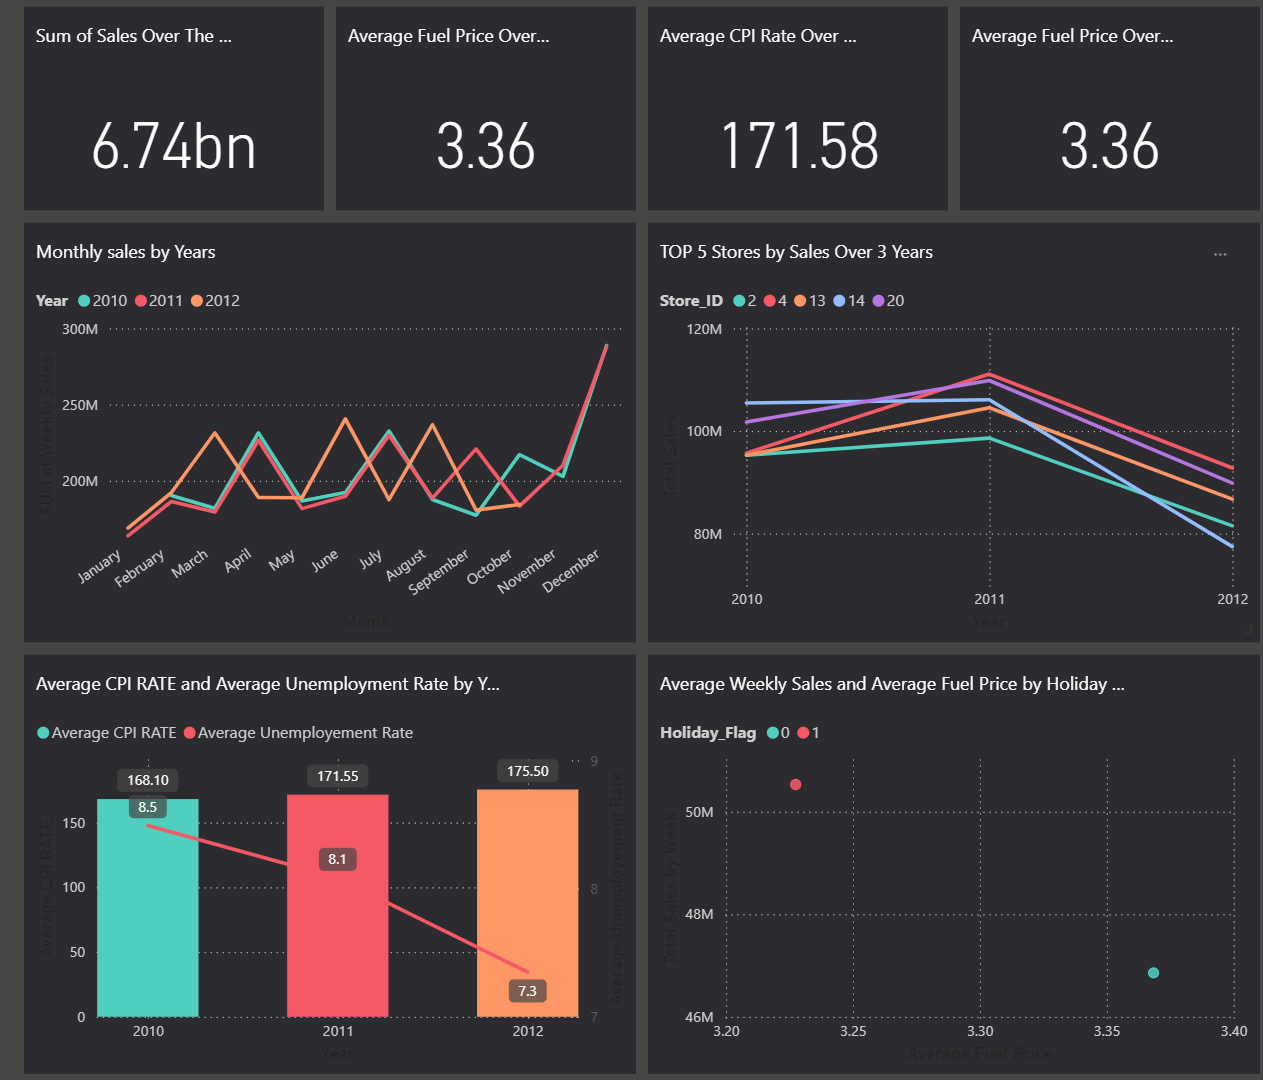

What the dashboard file says about the page in this screenshot:
{"tool":"powerbi","page":{"name":"Page 1","canvas":[1280,720],"ordinal":0},"visuals":[{"type":"card","fields":{"Values":["Walmart_Sales.SUM of Weekly Sales"]},"box":[0,0,270.4,105.2],"z":0},{"type":"clusteredColumnChart","title":"TOP 5 Stores by Sales Over 3 Years","fields":{"Category":["Date.Year"],"Y":["Walmart_Sales.SUM of Weekly Sales"],"Series":["Walmart_Sales.Store_ID"]},"box":[540.8,105.2,740,307.7],"z":1000},{"type":"actionButton","box":[0,0,100,40],"z":2000},{"type":"lineChart","title":"Monthly sales by Years","fields":{"Category":["Date.Date.Variation.Date Hierarchy.Year","Date.Date.Variation.Date Hierarchy.Quarter","Date.Date.Variation.Date Hierarchy.Month","Date.Date.Variation.Date Hierarchy.Day"],"Y":["Walmart_Sales.SUM of Weekly Sales"],"Series":["Date.Year"]},"box":[0,105.2,540.8,307.7],"z":3000},{"type":"lineStackedColumnComboChart","title":"Average CPI RATE and Average Unemployment Rate by Year","fields":{"Y":["Walmart_Sales.Average CPI RATE"],"Category":["Date.Year"],"Y2":["Walmart_Sales.Average Unemployement Rate"]},"box":[0,412.9,540.8,307.7],"z":4000},{"type":"card","fields":{"Values":["Walmart_Sales.Average Price Price"]},"box":[270.4,0,263.9,105.2],"z":5000},{"type":"card","fields":{"Values":["Walmart_Sales.Average CPI RATE"]},"box":[518.2,0,272,105.2],"z":6000},{"type":"scatterChart","title":"Sales Performance by Avg Fuel Price and Holiday Week","fields":{"Category":["Walmart_Sales.Holiday_Flag"],"Series":["Walmart_Sales.Holiday_Flag"],"X":["Walmart_Sales.Average Price Price"],"Y":["Walmart_Sales.Total Sales by Week"]},"box":[541,413,739,307],"z":7000},{"type":"card","fields":{"Values":["Walmart_Sales.Average Price Price"]},"box":[796.7,0,257.5,105.2],"z":8000},{"type":"card","fields":{"Values":["Sum(Walmart_Sales.Holiday_Flag)"]},"box":[1054.1,0,225.1,105.2],"z":9000}]}

Visuals, with their boxes on the page's 1280x720 design canvas (x1, y1, x2, y2). These are canvas units, not pixel positions in the 1263x1080 screenshot, which may show the page scaled, cropped or inside an application window:
card - Walmart_Sales.SUM of Weekly Sales: 0 0 270 105
"TOP 5 Stores by Sales Over 3 Years" clusteredColumnChart: 541 105 1281 413
actionButton: 0 0 100 40
"Monthly sales by Years" lineChart: 0 105 541 413
"Average CPI RATE and Average Unemployment Rate by Year" lineStackedColumnComboChart: 0 413 541 721
card - Walmart_Sales.Average Price Price: 270 0 534 105
card - Walmart_Sales.Average CPI RATE: 518 0 790 105
"Sales Performance by Avg Fuel Price and Holiday Week" scatterChart: 541 413 1280 720
card - Walmart_Sales.Average Price Price: 797 0 1054 105
card - Sum(Walmart_Sales.Holiday_Flag): 1054 0 1279 105
